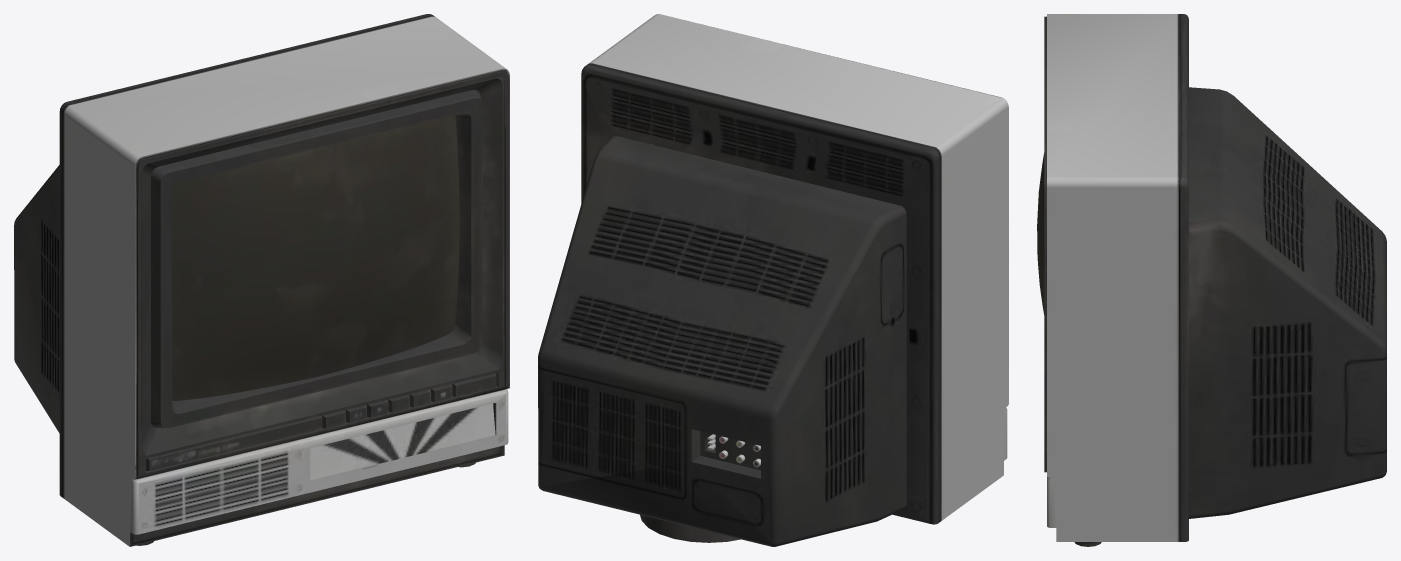
File: television_02.glb
The picture shows the model from 3 angles, left to right: view 1: azimuth 30°, elevation 25°; view 2: azimuth 150°, elevation 25°; view 3: azimuth 270°, elevation 25°; orthographic projection. The views are drawn at different scales.
Visible parts, largest first — view 1: television_02; view 2: television_02; view 3: television_02.
Boxes of the visible parts, x1,y1,x2,y2 form: television_02: (14,14,509,546); television_02: (538,14,1008,546); television_02: (1037,14,1386,546).
Bounding box in the file's own units: 0.3998 × 0.4114 × 0.3502.
1 material, 1 textured.
